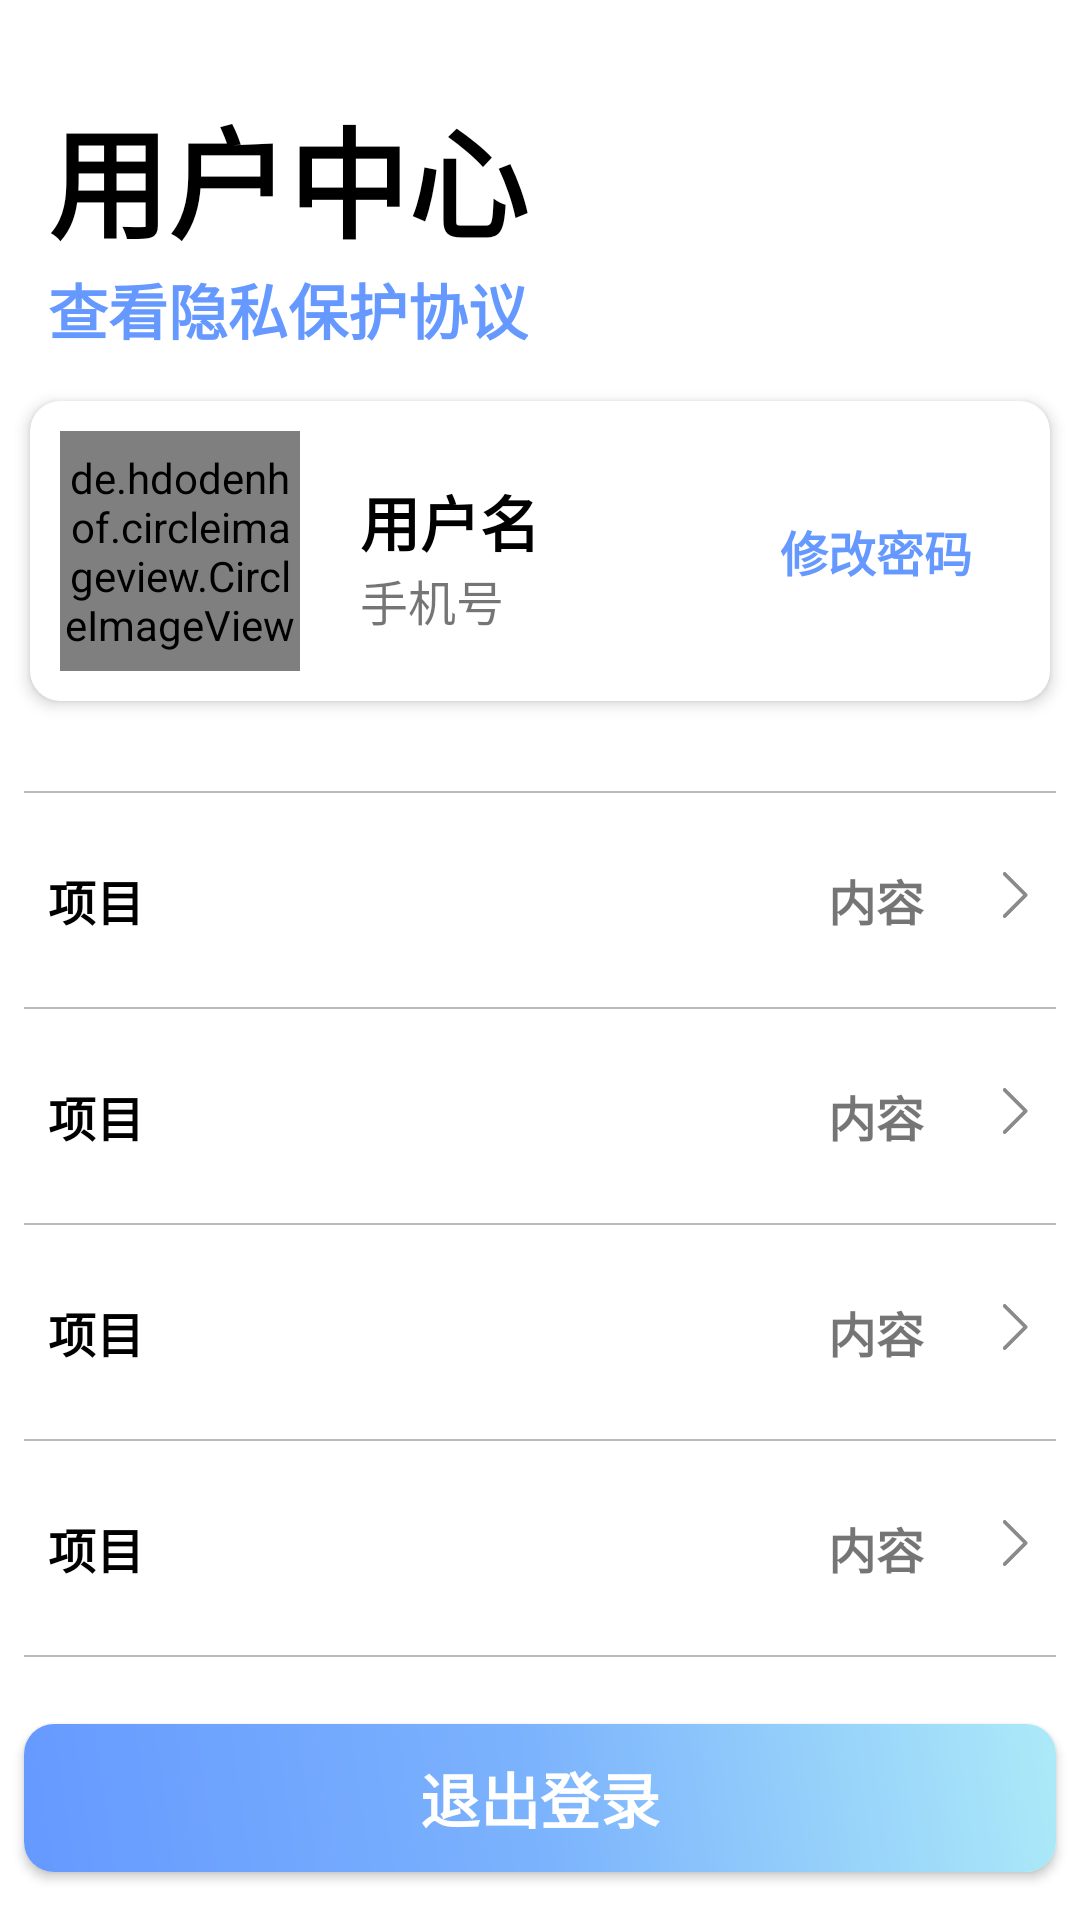

Named icons in this screenshot (1080px×1920px) and their centers, (x,y):
more: (1015,895), (1015,1111), (1015,1327), (1015,1543)
